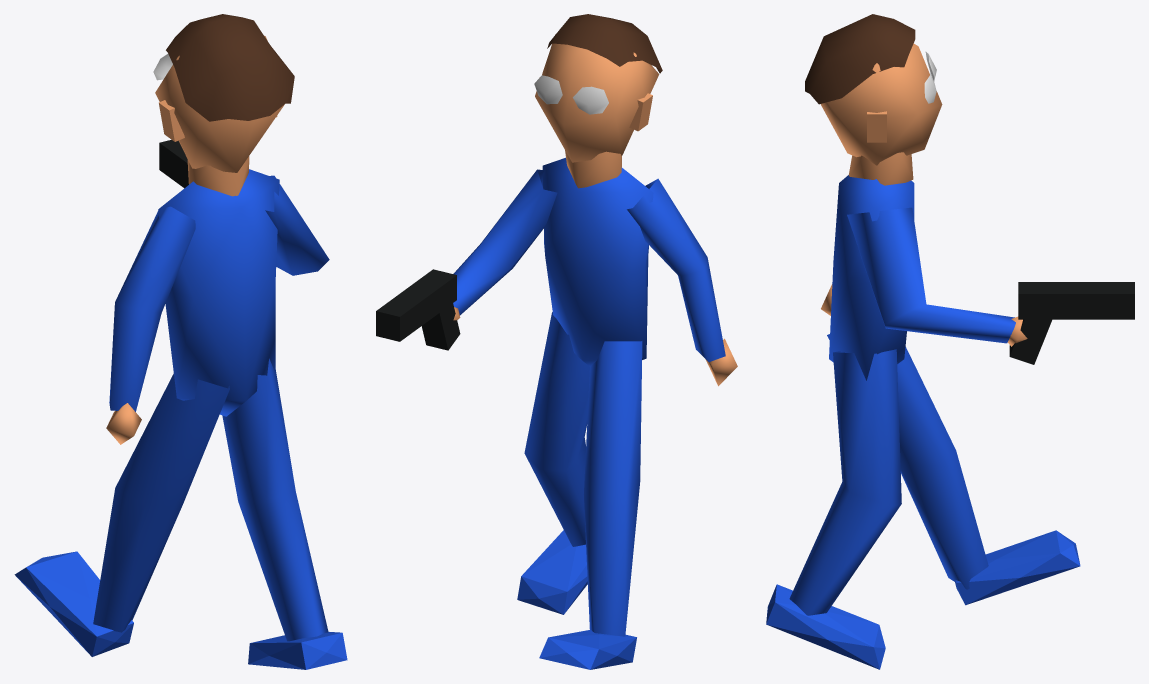
Rendered from boy_left.obj.
The picture shows the model from 3 angles, left to right: view 1: azimuth 30°, elevation 25°; view 2: azimuth 150°, elevation 25°; view 3: azimuth 270°, elevation 25°; orthographic projection. The views are drawn at different scales.
Parts seen in each view (by area): view 1: Sphere_5, Sphere_17_1, Sphere_17, Spline_Mesh_1, Sphere_6_1, Cube_3, Sphere_4, Sphere_6, Cube_3_1, Sphere_14, Cube_12, Sphere_12_1 (+1 smaller); view 2: Sphere_5, Sphere_17_1, Sphere_17, Sphere_4, Sphere_6_1, Sphere_6, Cube_3_1, Spline_Mesh_1, Cube_12, Cube_3, Sphere_14, Cube_13 (+3 smaller); view 3: Sphere_17, Sphere_17_1, Sphere_6, Sphere_5, Sphere_4, Spline_Mesh_1, Cube_3_1, Cube_3, Cube_12, Sphere_14, Cube_13, Cube_1_1.
Part boxes in pixels (x1,y1,x2,y2): Sphere_5: (158, 169, 279, 416); Sphere_17_1: (93, 373, 229, 632); Sphere_17: (222, 358, 328, 641); Spline_Mesh_1: (166, 14, 294, 121); Sphere_6_1: (109, 206, 195, 411); Cube_3: (14, 551, 133, 656); Sphere_4: (155, 35, 284, 172); Sphere_6: (265, 175, 329, 275); Cube_3_1: (248, 631, 347, 669); Sphere_14: (187, 156, 249, 196); Cube_12: (159, 140, 188, 188); Sphere_12_1: (106, 403, 141, 444); Sphere_5: (542, 157, 653, 366); Sphere_17_1: (584, 341, 642, 636); Sphere_17: (524, 312, 589, 546); Sphere_4: (535, 34, 659, 162); Sphere_6_1: (627, 178, 725, 361); Sphere_6: (453, 169, 557, 315); Cube_3_1: (517, 530, 587, 614); Spline_Mesh_1: (547, 14, 662, 73); Cube_12: (376, 269, 456, 341); Cube_3: (539, 629, 636, 669); Sphere_14: (565, 150, 621, 188); Cube_13: (421, 303, 460, 350); Sphere_17: (789, 349, 901, 615); Sphere_17_1: (827, 334, 988, 589); Sphere_6: (847, 207, 1015, 343); Sphere_5: (829, 175, 914, 380); Sphere_4: (820, 43, 942, 165); Spline_Mesh_1: (805, 14, 915, 104); Cube_3_1: (766, 584, 885, 669); Cube_3: (955, 530, 1080, 605); Cube_12: (1018, 282, 1134, 319); Sphere_14: (848, 152, 913, 185); Cube_13: (1009, 319, 1051, 364); Cube_1_1: (867, 111, 886, 142).
Bounding box in the file's own units: 1.33 × 3.37 × 1.83.
